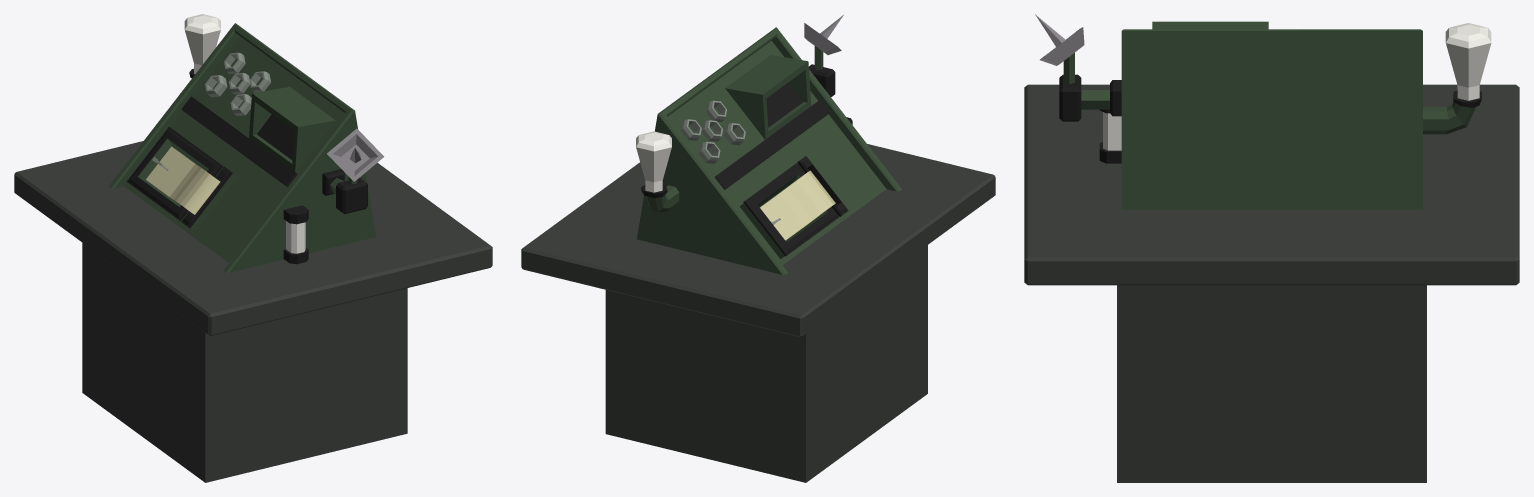
File: Switch_Board_001.fbx
3 views of the same model, side by side, from view 1: azimuth 30°, elevation 25°; view 2: azimuth 150°, elevation 25°; view 3: azimuth 270°, elevation 25° (orthographic). The views are drawn at different scales.
Parts seen in each view (by area): view 1: Switchboard_Table_Legs_001, SwitchBoard_Table_001, SwitchBoardBox_001, Screen_001, Paper_001, Screen_002, pCube17, GlassTube_001, Aerial_Attachment_003, Depository_001, Glass_Tube_003; view 2: Switchboard_Table_Legs_001, SwitchBoard_Table_001, SwitchBoardBox_001, Screen_001, Screen_002, Paper_001, GlassTube_001, BulbTubing_001, Depository_001, pCube17; view 3: Switchboard_Table_Legs_001, SwitchBoard_Table_001, SwitchBoardBox_001, GlassTube_001, BulbTubing_001, Screen_001, Aerial_Attachment_003, pCube17, Glass_Tube_003, Aerial_Attachment_002.
Boxes of the visible parts, bbox=[...] form: Switchboard_Table_Legs_001: bbox=[82, 243, 407, 482]; SwitchBoard_Table_001: bbox=[14, 141, 492, 335]; SwitchBoardBox_001: bbox=[108, 23, 375, 272]; Screen_001: bbox=[249, 87, 335, 172]; Paper_001: bbox=[146, 146, 220, 214]; Screen_002: bbox=[126, 127, 223, 221]; pCube17: bbox=[327, 128, 384, 181]; GlassTube_001: bbox=[184, 14, 220, 73]; Aerial_Attachment_003: bbox=[336, 178, 367, 213]; Depository_001: bbox=[181, 166, 236, 230]; Glass_Tube_003: bbox=[286, 221, 305, 253]; Switchboard_Table_Legs_001: bbox=[605, 245, 927, 482]; SwitchBoard_Table_001: bbox=[521, 144, 995, 337]; SwitchBoardBox_001: bbox=[637, 27, 901, 274]; Screen_001: bbox=[725, 55, 811, 139]; Screen_002: bbox=[739, 163, 838, 259]; Paper_001: bbox=[760, 170, 835, 240]; GlassTube_001: bbox=[636, 131, 671, 192]; BulbTubing_001: bbox=[641, 184, 679, 211]; Depository_001: bbox=[797, 156, 848, 216]; pCube17: bbox=[804, 23, 841, 54]; Switchboard_Table_Legs_001: bbox=[1117, 285, 1426, 482]; SwitchBoard_Table_001: bbox=[1024, 84, 1519, 285]; SwitchBoardBox_001: bbox=[1121, 29, 1422, 209]; GlassTube_001: bbox=[1445, 23, 1491, 100]; BulbTubing_001: bbox=[1423, 90, 1481, 134]; Screen_001: bbox=[1152, 21, 1268, 29]; Aerial_Attachment_003: bbox=[1059, 74, 1081, 121]; pCube17: bbox=[1040, 27, 1084, 65]; Glass_Tube_003: bbox=[1103, 112, 1121, 150]; Aerial_Attachment_002: bbox=[1081, 90, 1109, 109].
Size of the model in its own units: 277 by 311 by 332.
1 material, 1 textured.
